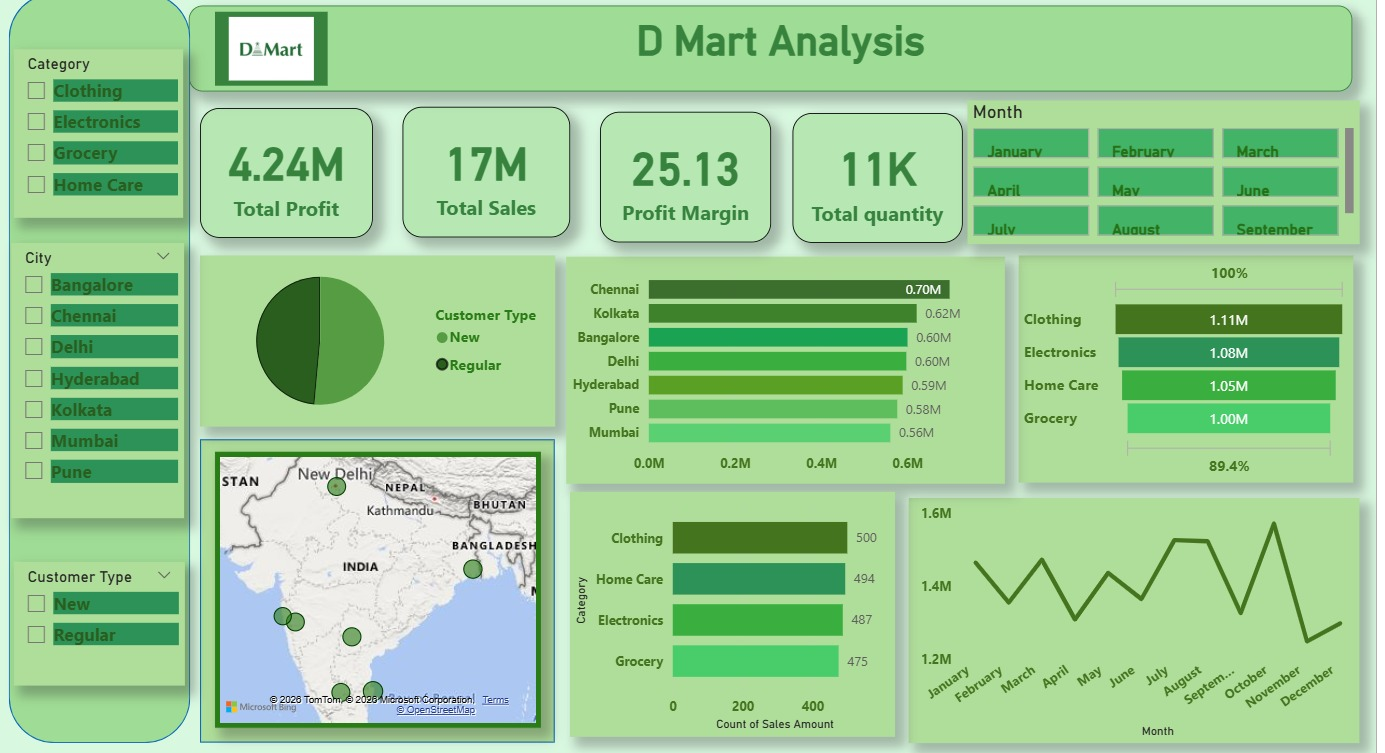

Layout of this report page (visuals, bound fields, positions):
{"tool":"powerbi","page":{"name":"Page 1","canvas":[1280,720],"ordinal":0},"visuals":[{"type":"card","fields":{"Values":["Dmart Sales Data.Total Profit"]},"box":[185.8,107.4,160.5,120.6],"z":1000},{"type":"textbox","box":[176.1,12.1,1082.2,79.6],"z":2000},{"type":"image","box":[200.3,16.9,105,68.8],"z":3000},{"type":"shape","box":[185.6,415.6,330,282.2],"z":3500},{"type":"card","fields":{"Values":["Dmart Sales Data.Total quantity"]},"box":[737.1,112.2,158,120.6],"z":4000},{"type":"card","fields":{"Values":["Dmart Sales Data.Total Sales"]},"box":[374,106.2,155.6,121.9],"z":5000},{"type":"map","fields":{"Size":["Dmart Sales Data.Total Sales"],"Category":["Dmart Sales Data.City"]},"box":[200,426.7,303.3,256.7],"z":6000},{"type":"pieChart","fields":{"Category":["Dmart Sales Data.Customer Type"],"Y":["CountNonNull(Dmart Sales Data.Customer Type)"]},"box":[185.6,244.4,330,158.9],"z":7000},{"type":"funnel","fields":{"Category":["Dmart Sales Data.Category"],"Y":["Dmart Sales Data.Total Profit"]},"box":[947.8,244.4,311.1,211.1],"z":8000},{"type":"lineChart","fields":{"Category":["Dmart Sales Data.Order Date.Variation.Date Hierarchy.Month"],"Y":["Dmart Sales Data.Total Sales"]},"box":[845.6,470,418.9,227.8],"z":9000},{"type":"clusteredBarChart","fields":{"Category":["Dmart Sales Data.City"],"Y":["Dmart Sales Data.Total Profit"]},"box":[527.2,244.9,407.8,211.1],"z":10000},{"type":"shape","box":[7.8,0,168.9,697.8],"z":10500},{"type":"slicer","fields":{"Values":["Dmart Sales Data.City"]},"box":[10.9,232.8,160.5,255.8],"z":11000},{"type":"advancedSlicerVisual","fields":{"Values":["Dmart Sales Data.Order Date.Variation.Date Hierarchy.Month"]},"box":[900,100,364.4,133.3],"z":12000},{"type":"card","fields":{"Values":["Dmart Sales Data.Profit Margin"]},"box":[558.6,111,159.3,121.9],"z":13000},{"type":"clusteredBarChart","fields":{"Category":["Dmart Sales Data.Category"],"Y":["Count(Dmart Sales Data.Sales Amount)"]},"box":[530,464.4,302.2,227.8],"z":14000},{"type":"slicer","fields":{"Values":["Dmart Sales Data.Category"]},"box":[13.3,52.2,157.8,156.7],"z":16000},{"type":"slicer","fields":{"Values":["Dmart Sales Data.Customer Type"]},"box":[13.3,528.9,158.9,115.6],"z":17000}]}

Visuals, with their boxes in screenshot pixels (x1, y1, x2, y2):
card - Dmart Sales Data.Total Profit: region(195, 104, 367, 233)
textbox: region(185, 2, 1343, 87)
image: region(211, 7, 323, 81)
shape: region(195, 434, 548, 736)
card - Dmart Sales Data.Total quantity: region(785, 109, 955, 238)
card - Dmart Sales Data.Total Sales: region(397, 103, 563, 233)
map - Dmart Sales Data.Total Sales x Dmart Sales Data.City: region(210, 446, 535, 721)
pieChart - Dmart Sales Data.Customer Type x CountNonNull(Dmart Sales Data.Customer Type): region(195, 251, 548, 421)
funnel - Dmart Sales Data.Category x Dmart Sales Data.Total Profit: region(1011, 251, 1344, 477)
lineChart - Dmart Sales Data.Order Date.Variation.Date Hierarchy.Month x Dmart Sales Data.Total Sales: region(902, 492, 1350, 736)
clusteredBarChart - Dmart Sales Data.City x Dmart Sales Data.Total Profit: region(561, 251, 997, 477)
shape: region(5, 0, 186, 736)
slicer - Dmart Sales Data.City: region(8, 238, 180, 512)
advancedSlicerVisual - Dmart Sales Data.Order Date.Variation.Date Hierarchy.Month: region(960, 96, 1350, 239)
card - Dmart Sales Data.Profit Margin: region(594, 108, 765, 238)
clusteredBarChart - Dmart Sales Data.Category x Count(Dmart Sales Data.Sales Amount): region(564, 486, 887, 730)
slicer - Dmart Sales Data.Category: region(11, 45, 180, 213)
slicer - Dmart Sales Data.Customer Type: region(11, 555, 181, 679)
